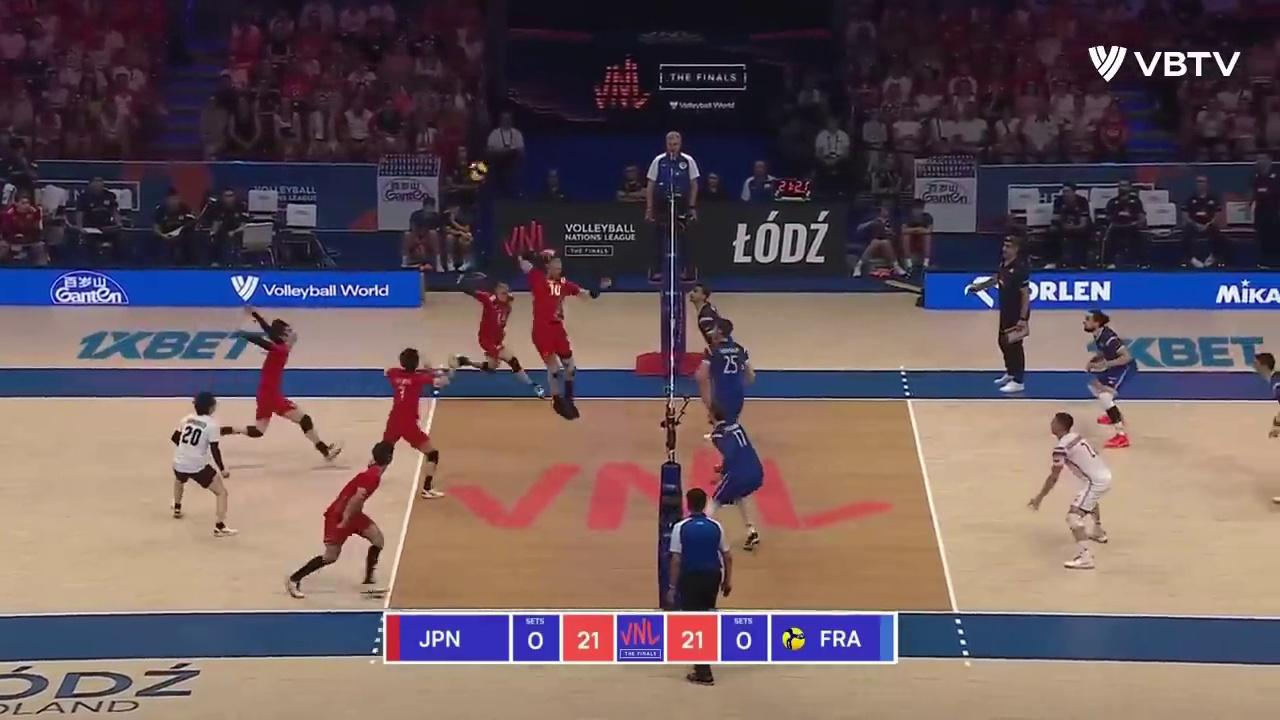ball: (470, 163, 488, 181)
